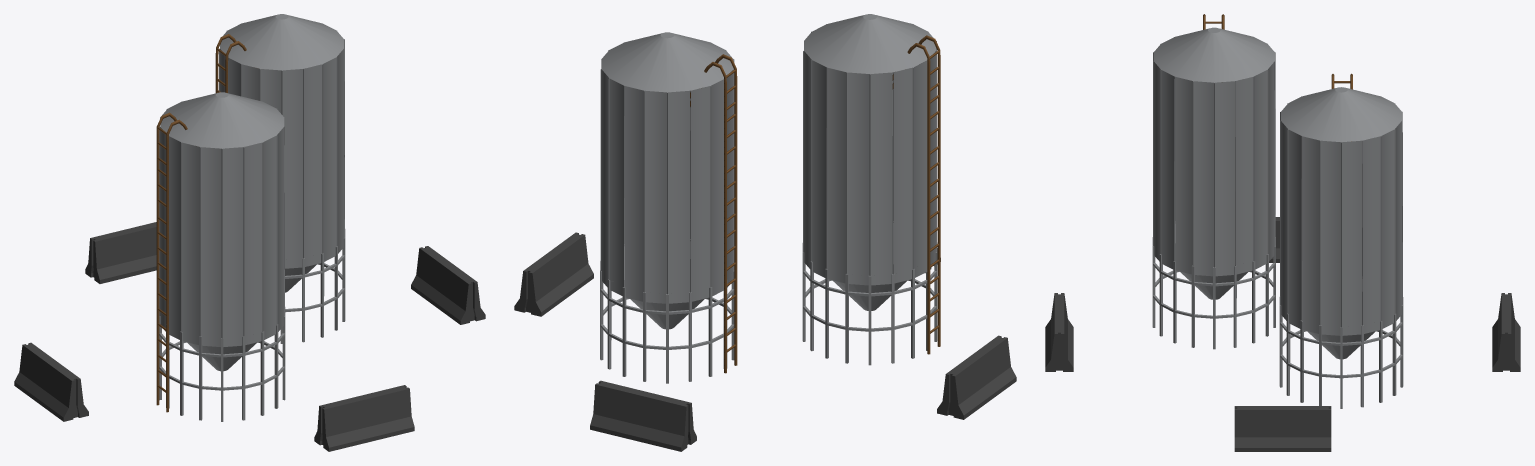
File: Silo Niv1.fbx
The picture shows the model from 3 angles, left to right: view 1: azimuth 30°, elevation 25°; view 2: azimuth 150°, elevation 25°; view 3: azimuth 270°, elevation 25°; orthographic projection. The views are drawn at different scales.
Parts seen in each view (by area): view 1: Echelle 2; view 2: Echelle 2; view 3: Echelle 2.
Part boxes in pixels (x1=…): Echelle 2: x1=14, y1=14, x2=485, y2=451; Echelle 2: x1=514, y1=14, x2=1016, y2=451; Echelle 2: x1=1045, y1=14, x2=1520, y2=451.
Size of the model in its own units: 1000 by 679 by 1000.
